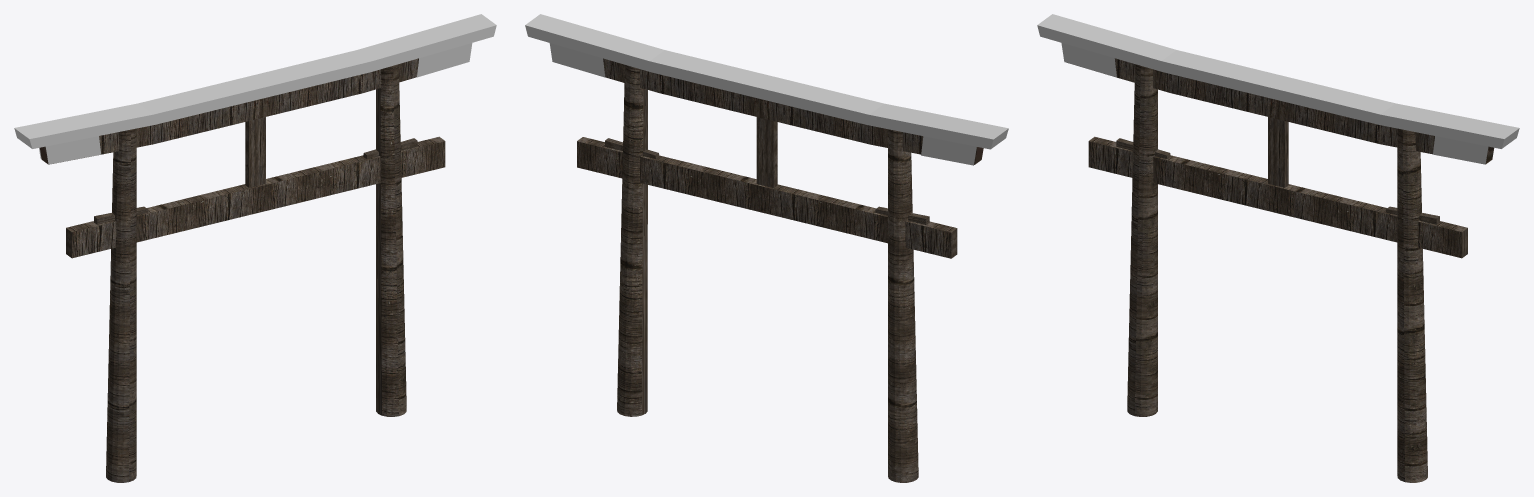
Rendered from ToriGate03.fbx.
The picture shows the model from 3 angles, left to right: view 1: azimuth 30°, elevation 25°; view 2: azimuth 150°, elevation 25°; view 3: azimuth 330°, elevation 25°; orthographic projection.
Parts seen in each view (by area): view 1: Cylinder_002, Cylinder_004; view 2: Cylinder_002, Cylinder_004; view 3: Cylinder_002, Cylinder_004.
Boxes of the visible parts, box(x1,y1,x2,y2) form: Cylinder_002: box(14, 14, 496, 482); Cylinder_004: box(39, 43, 472, 164); Cylinder_002: box(525, 14, 1008, 482); Cylinder_004: box(549, 43, 976, 165); Cylinder_002: box(1037, 14, 1519, 482); Cylinder_004: box(1061, 43, 1494, 164).
Bounding box in the file's own units: 3484 × 2610 × 210.
